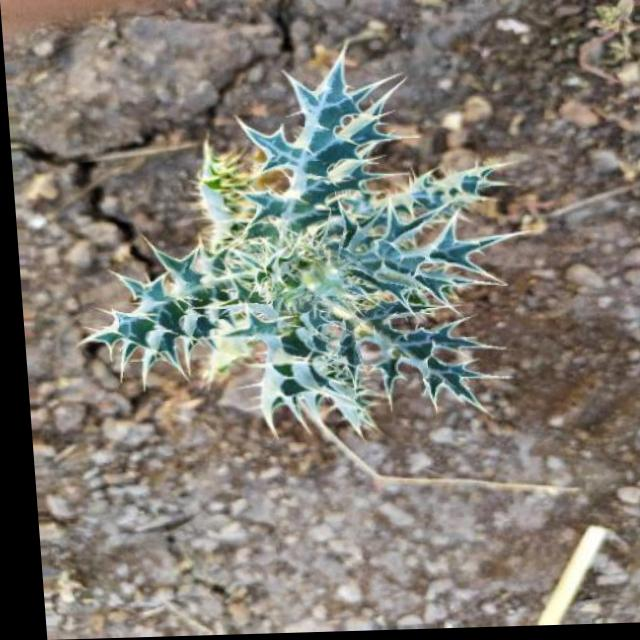weed: (61, 53, 536, 471)
